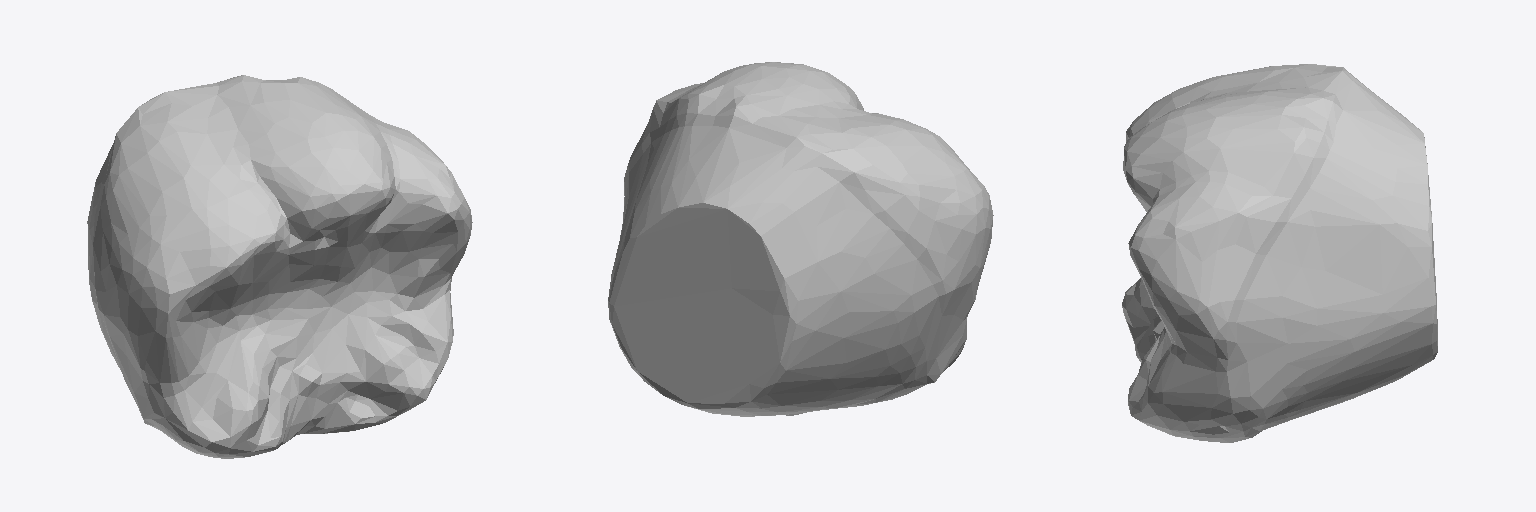
The model's file is local_t46_7780_si.OBJ.
3 views of the same model, side by side, from view 1: azimuth 30°, elevation 25°; view 2: azimuth 150°, elevation 25°; view 3: azimuth 270°, elevation 25° (orthographic).
Visible parts, largest first — view 1: Group60880; view 2: Group60880; view 3: Group60880.
Boxes of the visible parts, x1,y1,x2,y2 form: Group60880: [87, 75, 472, 458]; Group60880: [608, 62, 993, 416]; Group60880: [1122, 64, 1437, 442].
Bounding box in the file's own units: 12.07 × 10.88 × 9.53.